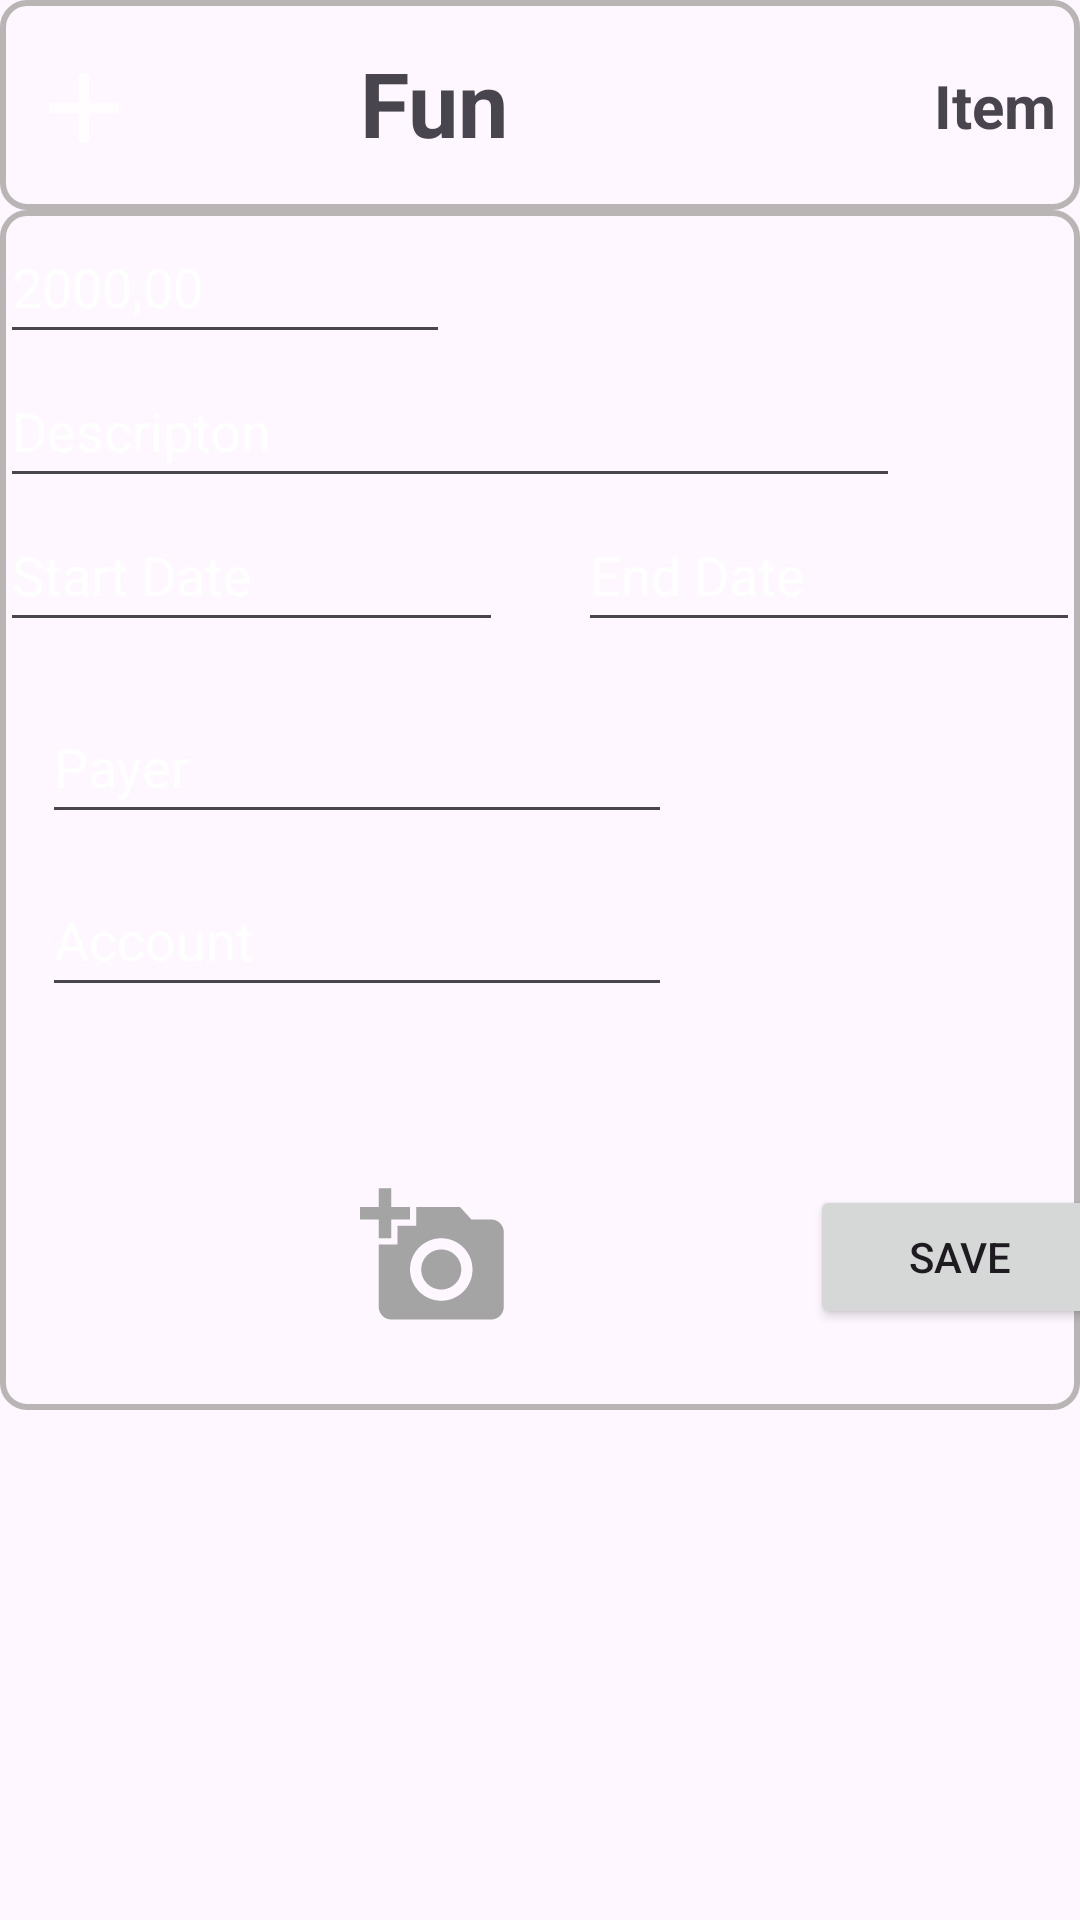

Named icons in this screenshot (1080px x 1920px) and their bounding boxes, detection(x1, y1, x2, y2):
photo: detection(360, 1188, 504, 1320)
